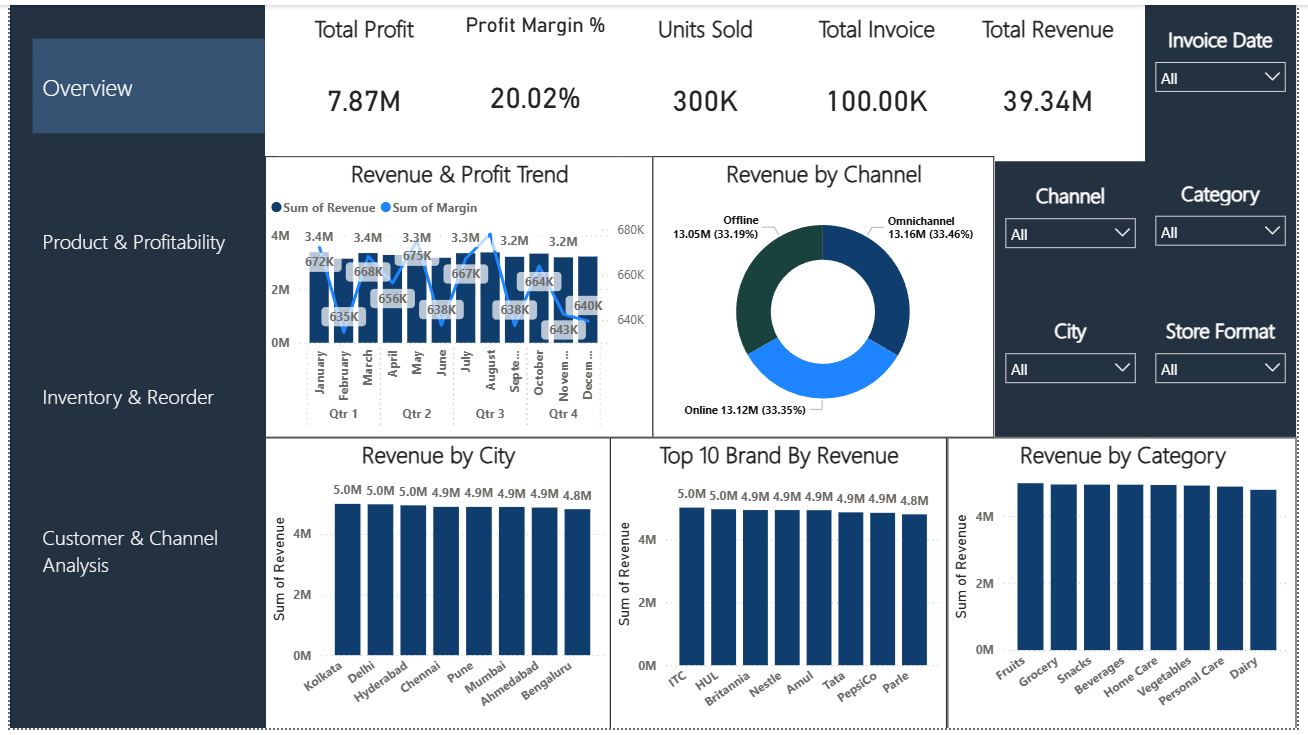

This screenshot's page, from the dashboard's own definition file:
{"tool":"powerbi","page":{"name":"Overview","canvas":[1280,720],"ordinal":0},"visuals":[{"type":"lineClusteredColumnComboChart","title":"Revenue & Profit Trend","fields":{"Category":["Indian_FMCG_Retail_Sales_Customer_Inventory_(2024).Invoice_Date.Variation.Date Hierarchy.Quarter","Indian_FMCG_Retail_Sales_Customer_Inventory_(2024).Invoice_Date.Variation.Date Hierarchy.Month"],"Y":["Sum(Indian_FMCG_Retail_Sales_Customer_Inventory_(2024).Revenue)"],"Y2":["Sum(Indian_FMCG_Retail_Sales_Customer_Inventory_(2024).Margin)"]},"box":[253.8,150,386.2,280],"z":1000},{"type":"card","title":"Total Revenue","fields":{"Values":["Sum(Indian_FMCG_Retail_Sales_Customer_Inventory_(2024).Revenue)"]},"box":[947.5,0,170,150],"z":2000},{"type":"card","title":"Total Profit","fields":{"Values":["Sum(Indian_FMCG_Retail_Sales_Customer_Inventory_(2024).Margin)"]},"box":[267.5,0,170,150],"z":3000},{"type":"card","title":"Profit Margin %","fields":{"Values":["Indian_FMCG_Retail_Sales_Customer_Inventory_(2024).Margin_%_measure"]},"box":[437.5,0,170,150],"z":4000},{"type":"card","title":"Units Sold","fields":{"Values":["Sum(Indian_FMCG_Retail_Sales_Customer_Inventory_(2024).Units)"]},"box":[607.5,0,170,150],"z":5000},{"type":"card","title":"Total Invoice","fields":{"Values":["CountNonNull(Indian_FMCG_Retail_Sales_Customer_Inventory_(2024).Invoice_ID)"]},"box":[777.5,0,170,150],"z":6000},{"type":"columnChart","title":"Revenue by Category","fields":{"Category":["Indian_FMCG_Retail_Sales_Customer_Inventory_(2024).Category"],"Y":["Sum(Indian_FMCG_Retail_Sales_Customer_Inventory_(2024).Revenue)"]},"box":[932.5,430,347.5,290],"z":7000},{"type":"columnChart","title":"Revenue by City","fields":{"Category":["Indian_FMCG_Retail_Sales_Customer_Inventory_(2024).City"],"Y":["Sum(Indian_FMCG_Retail_Sales_Customer_Inventory_(2024).Revenue)"]},"box":[253.8,430,343.8,290],"z":8000},{"type":"donutChart","title":"Revenue by Channel","fields":{"Y":["Sum(Indian_FMCG_Retail_Sales_Customer_Inventory_(2024).Revenue)"],"Category":["Indian_FMCG_Retail_Sales_Customer_Inventory_(2024).Channel"]},"box":[640,150,340,280],"z":9000},{"type":"columnChart","title":"Top 10 Brand By Revenue","fields":{"Category":["Indian_FMCG_Retail_Sales_Customer_Inventory_(2024).Brand"],"Y":["Sum(Indian_FMCG_Retail_Sales_Customer_Inventory_(2024).Revenue)"]},"box":[597.5,430,335,290],"z":10000},{"type":"slicer","title":"Invoice Date","fields":{"Values":["Indian_FMCG_Retail_Sales_Customer_Inventory_(2024).Invoice_Date"]},"box":[1130,0,150,155],"z":11000},{"type":"slicer","title":"City","fields":{"Values":["Indian_FMCG_Retail_Sales_Customer_Inventory_(2024).City"]},"box":[980,290,150,140],"z":12000},{"type":"slicer","title":"Store Format","fields":{"Values":["Indian_FMCG_Retail_Sales_Customer_Inventory_(2024).Store_Format"]},"box":[1130,290,150,140],"z":13000},{"type":"slicer","title":"Category","fields":{"Values":["Indian_FMCG_Retail_Sales_Customer_Inventory_(2024).Category"]},"box":[1130,152.5,150,137.5],"z":14000},{"type":"slicer","title":"Channel","fields":{"Values":["Indian_FMCG_Retail_Sales_Customer_Inventory_(2024).Channel"]},"box":[980,155,150,135],"z":15000},{"type":"shape","box":[0,0,253.8,720],"z":16000},{"type":"pageNavigator","box":[22.5,33.8,231.2,558.8],"z":17000}]}

Visuals, with their boxes in screenshot pixels (x1, y1, x2, y2), scaled from the page's 1280x720 canvas onto the 1308x735 screenshot:
"Revenue & Profit Trend" lineClusteredColumnComboChart: {"x1": 259, "y1": 153, "x2": 654, "y2": 439}
"Total Revenue" card: {"x1": 968, "y1": 0, "x2": 1142, "y2": 153}
"Total Profit" card: {"x1": 273, "y1": 0, "x2": 447, "y2": 153}
"Profit Margin %" card: {"x1": 447, "y1": 0, "x2": 621, "y2": 153}
"Units Sold" card: {"x1": 621, "y1": 0, "x2": 795, "y2": 153}
"Total Invoice" card: {"x1": 795, "y1": 0, "x2": 968, "y2": 153}
"Revenue by Category" columnChart: {"x1": 953, "y1": 439, "x2": 1307, "y2": 734}
"Revenue by City" columnChart: {"x1": 259, "y1": 439, "x2": 611, "y2": 734}
"Revenue by Channel" donutChart: {"x1": 654, "y1": 153, "x2": 1001, "y2": 439}
"Top 10 Brand By Revenue" columnChart: {"x1": 611, "y1": 439, "x2": 953, "y2": 734}
"Invoice Date" slicer: {"x1": 1155, "y1": 0, "x2": 1307, "y2": 158}
"City" slicer: {"x1": 1001, "y1": 296, "x2": 1155, "y2": 439}
"Store Format" slicer: {"x1": 1155, "y1": 296, "x2": 1307, "y2": 439}
"Category" slicer: {"x1": 1155, "y1": 156, "x2": 1307, "y2": 296}
"Channel" slicer: {"x1": 1001, "y1": 158, "x2": 1155, "y2": 296}
shape: {"x1": 0, "y1": 0, "x2": 259, "y2": 734}
pageNavigator: {"x1": 23, "y1": 35, "x2": 259, "y2": 605}
